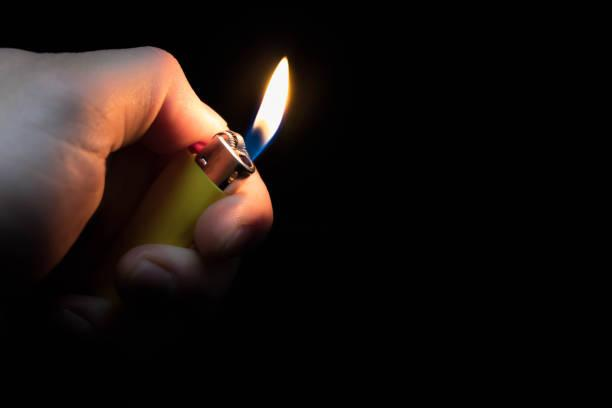Fire: (244, 47, 296, 159)
